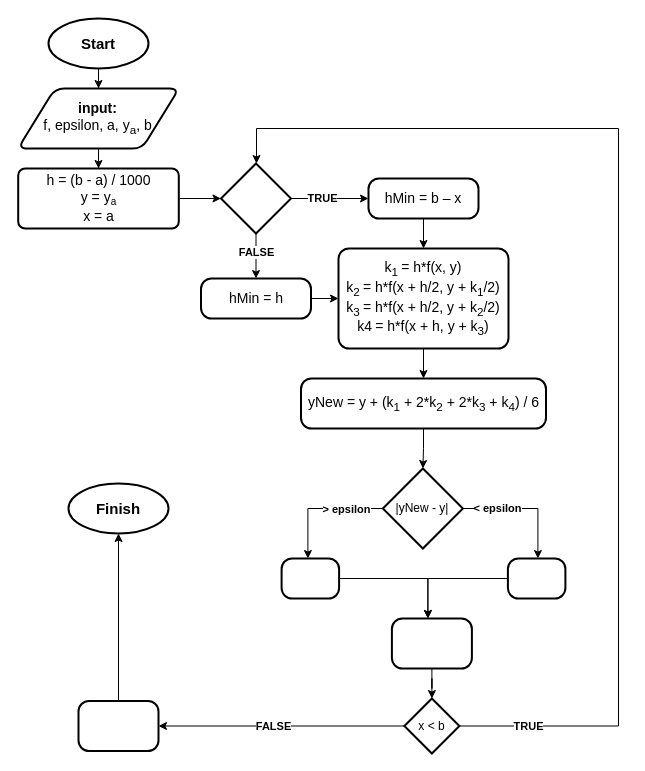
The diagram is 645 pixels wide and 771 high, and some of its shapes have lost their labels. Here are the shapes that lost their labels. From the top down, the centre of each, then its label:
pixel 256 198: x+h > b
pixel 310 578: h = h/2
pixel 536 578: h = h*2
pixel 431 643: x += hMin y = yNew
pixel 118 726: result: y
